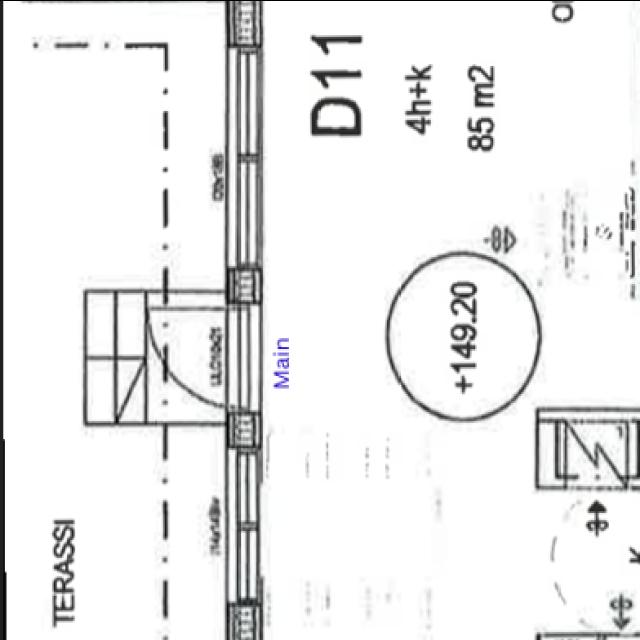main: (143, 293, 277, 425)
